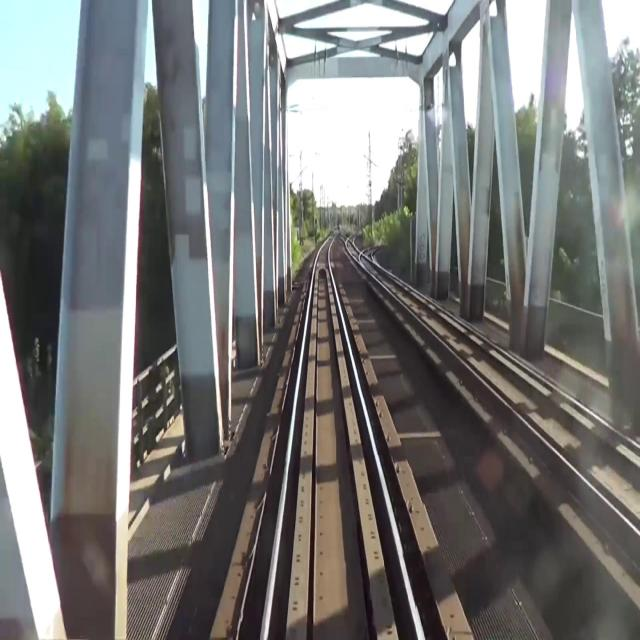rail-track: (360, 254, 640, 530), (265, 233, 419, 639)
